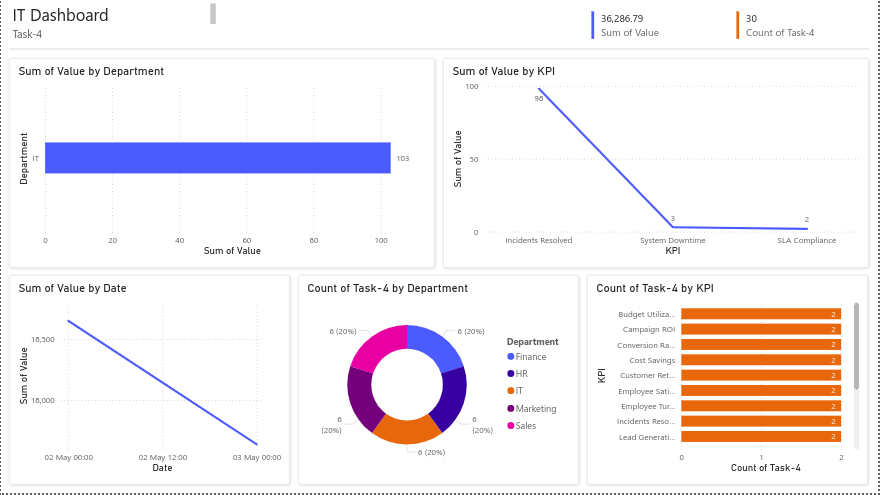

What the dashboard file says about the page in this screenshot:
{"tool":"powerbi","page":{"name":"IT ","canvas":[1280,720],"ordinal":0},"visuals":[{"type":"shape","box":[12,58,1256,26],"z":0},{"type":"shape","box":[12,84,622,306],"z":1000},{"type":"shape","box":[646,84,622,306],"z":2000},{"type":"shape","box":[12,402,410,306],"z":3000},{"type":"shape","box":[434,402,410,306],"z":4000},{"type":"shape","box":[856,402,410,306],"z":5000},{"type":"clusteredBarChart","fields":{"Category":["Task-4.KPI"],"Y":["Count(Task-4)"]},"box":[864,414,394,282],"z":6000},{"type":"donutChart","fields":{"Category":["Task-4.Department"],"Y":["Count(Task-4)"],"Series":["Task-4.KPI"]},"box":[442,414,394,282],"z":7000},{"type":"lineChart","fields":{"Category":["Task-4.Date"],"Y":["Sum(Task-4.Value)"]},"box":[20,414,394,282],"z":8000},{"type":"lineChart","fields":{"Category":["Task-4.KPI"],"Y":["Sum(Task-4.Value)"]},"box":[654,96,606,282],"z":9000},{"type":"clusteredBarChart","fields":{"Category":["Task-4.Department"],"Y":["Sum(Task-4.Value)"]},"box":[20,96,606,282],"z":10000},{"type":"multiRowCard","fields":{"Values":["Count(Task-4)"]},"box":[1069,12,199,50],"z":11000},{"type":"multiRowCard","fields":{"Values":["Sum(Task-4.Value)"]},"box":[858,12,199,50],"z":12000},{"type":"textbox","box":[12,33,306,32],"z":13000},{"type":"textbox","box":[11.7,0,306.7,40.9],"z":14000}]}

Visuals, with their boxes in screenshot pixels (x1, y1, x2, y2), scaled from the page's 1280x720 canvas onto the 881x495 screenshot:
shape: bbox=[8, 40, 873, 58]
shape: bbox=[8, 58, 436, 268]
shape: bbox=[445, 58, 873, 268]
shape: bbox=[8, 276, 290, 487]
shape: bbox=[299, 276, 581, 487]
shape: bbox=[589, 276, 871, 487]
clusteredBarChart - Task-4.KPI x Count(Task-4): bbox=[595, 285, 866, 478]
donutChart - Task-4.Department x Count(Task-4): bbox=[304, 285, 575, 478]
lineChart - Task-4.Date x Sum(Task-4.Value): bbox=[14, 285, 285, 478]
lineChart - Task-4.KPI x Sum(Task-4.Value): bbox=[450, 66, 867, 260]
clusteredBarChart - Task-4.Department x Sum(Task-4.Value): bbox=[14, 66, 431, 260]
multiRowCard - Count(Task-4): bbox=[736, 8, 873, 43]
multiRowCard - Sum(Task-4.Value): bbox=[591, 8, 728, 43]
textbox: bbox=[8, 23, 219, 45]
textbox: bbox=[8, 0, 219, 28]
